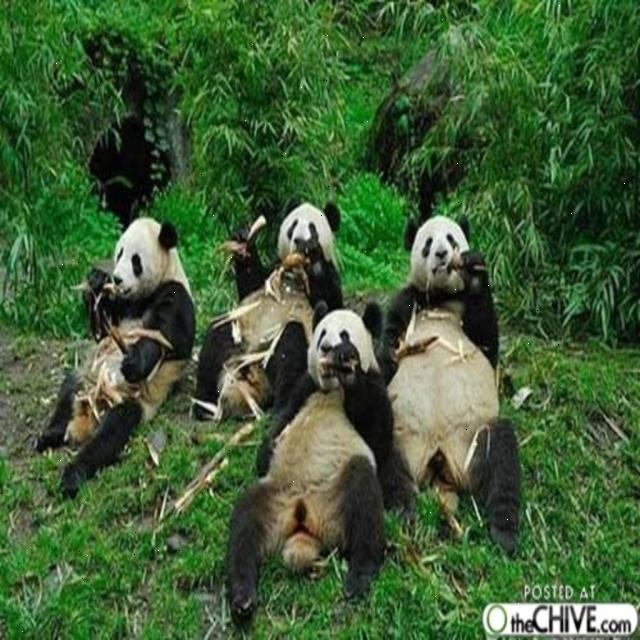panda: (224, 295, 398, 626), (383, 204, 525, 565), (36, 212, 200, 505), (189, 193, 342, 418)
